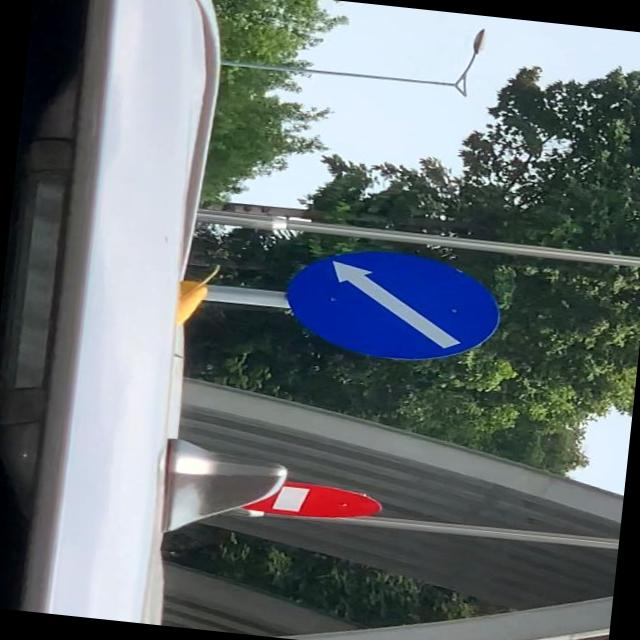P-102: (213, 477, 387, 524)
R-302b: (280, 240, 503, 368)
